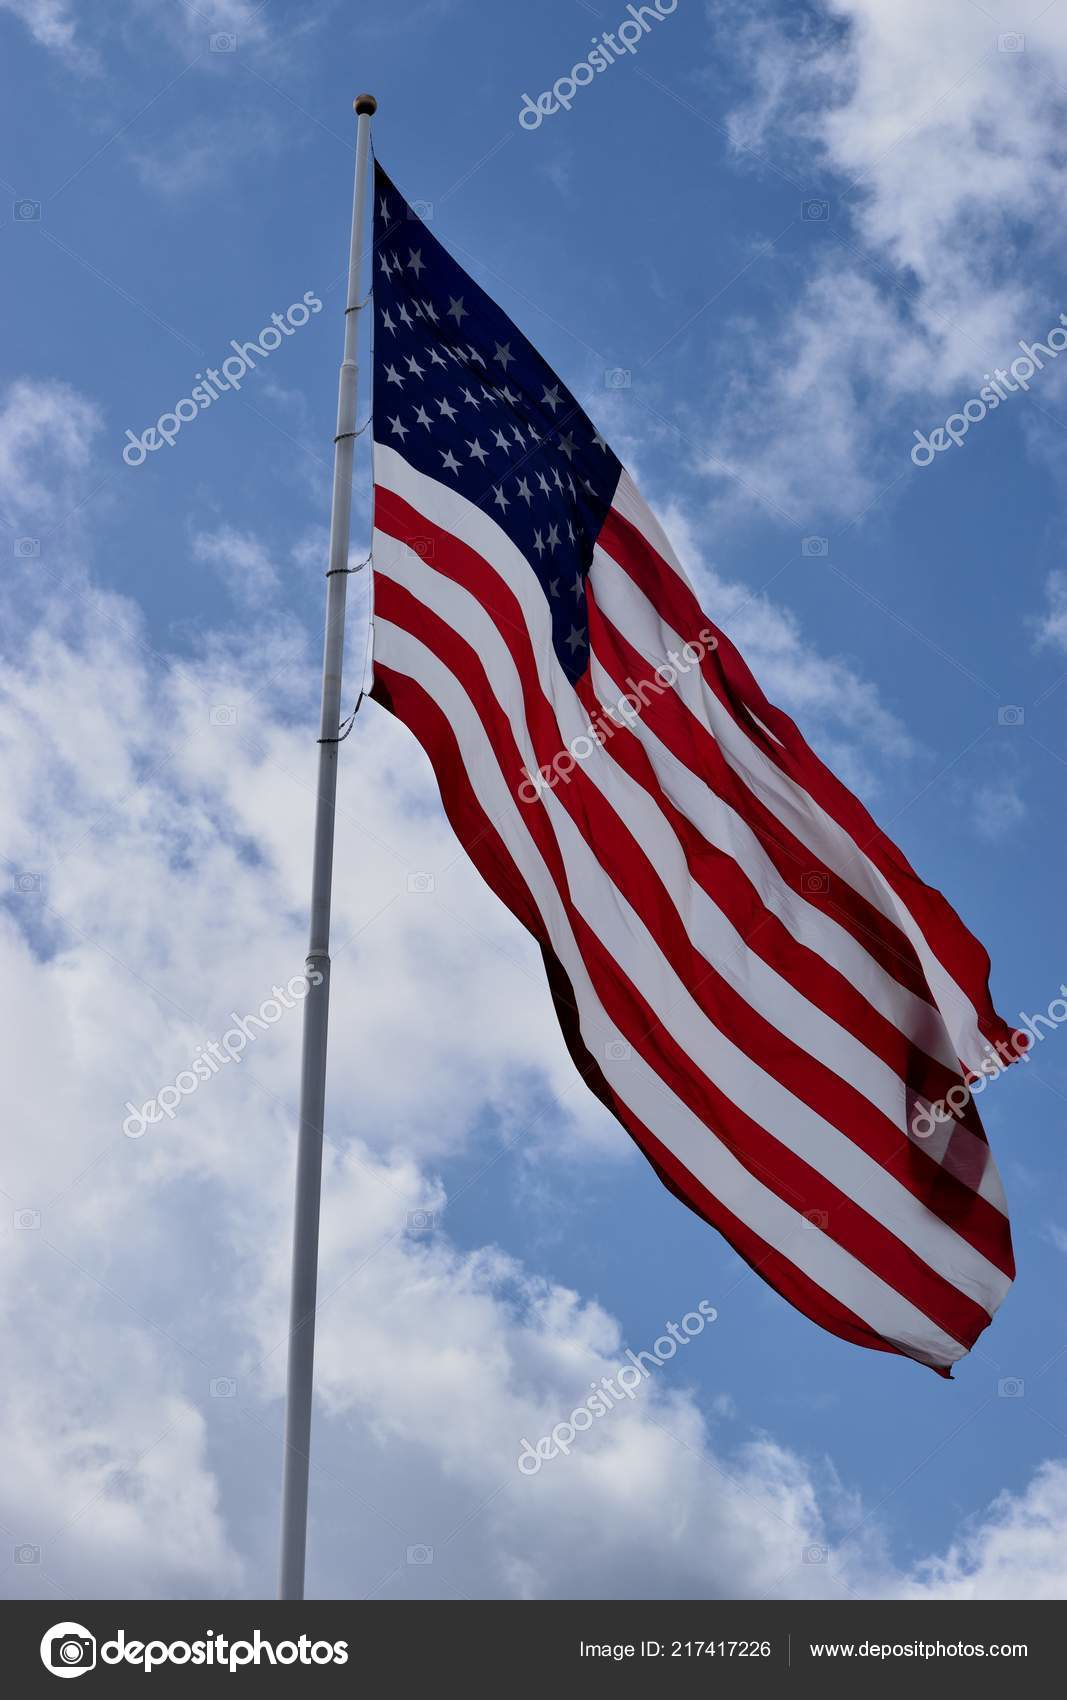America flag: (361, 156, 1030, 1427)
